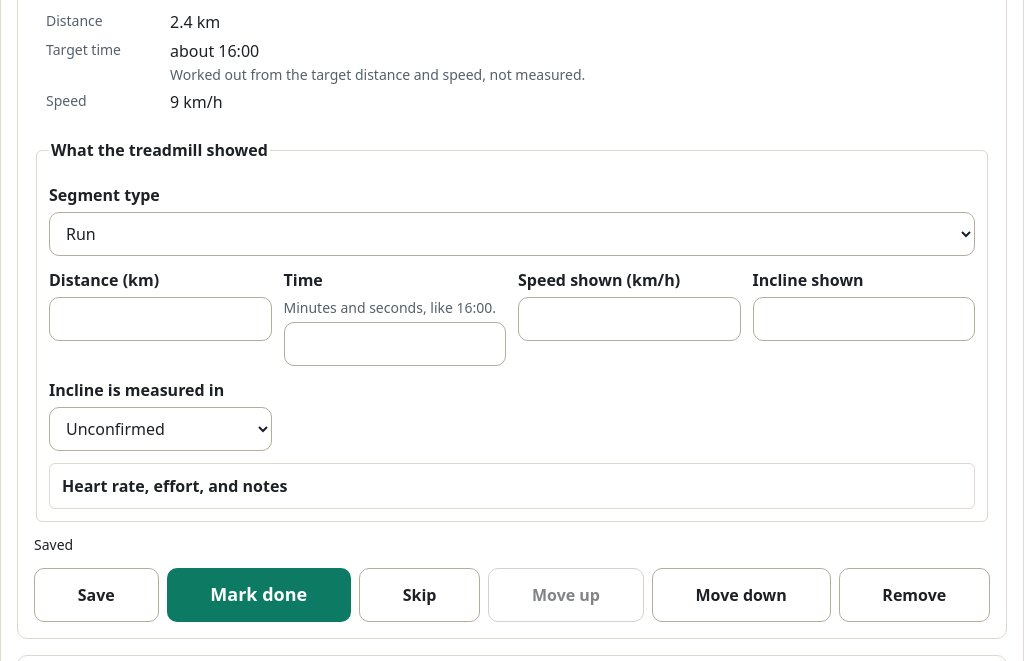
it: adding, removing, and reordering › refuses to remove a segment holding recorded numbers, and says so
(page scrolled)
Type "3.05" into the field labelled "Distance (km)" at (160, 319), box [49,297,272,341]
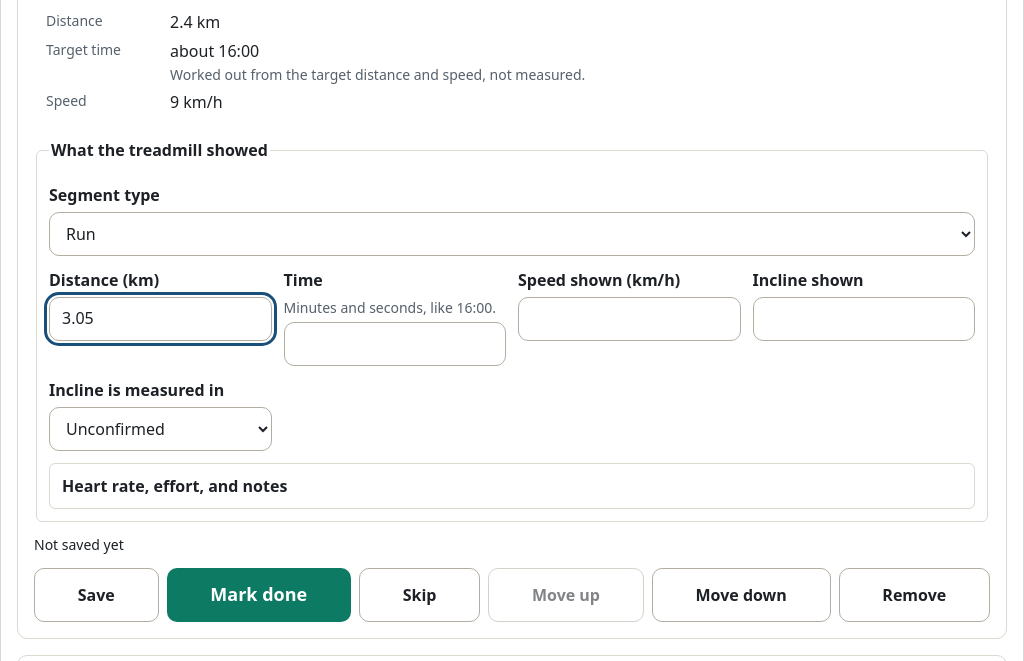
Click the button "Save" at (96, 595), box [34,568,159,622]
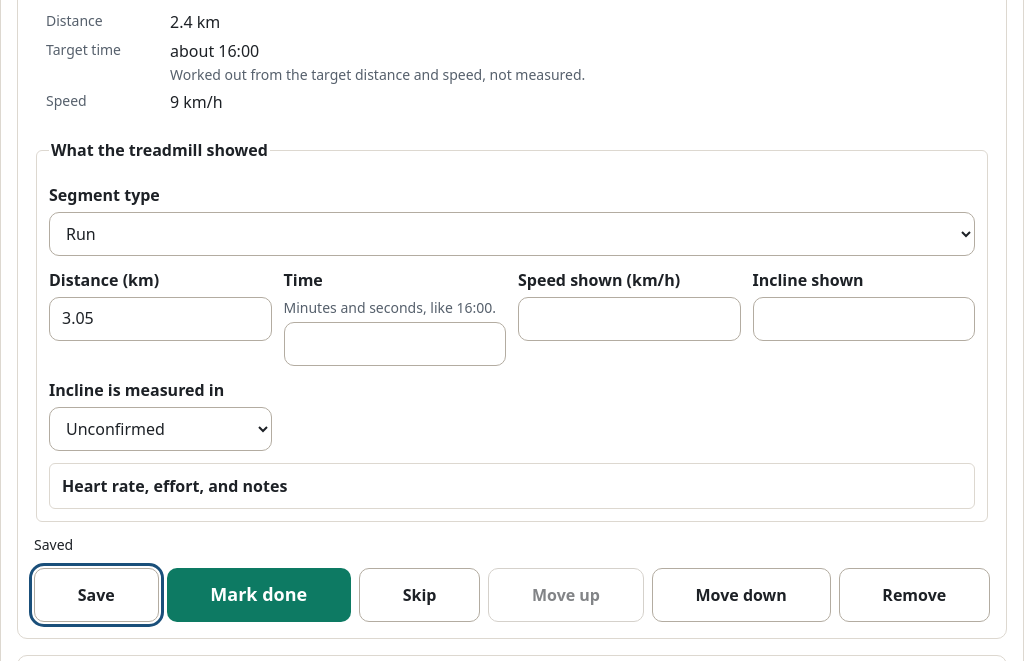
Expected: the text "Saved" is shown, [34,535,73,554]
Click the button "Remove" at (914, 595), box [839,568,990,622]
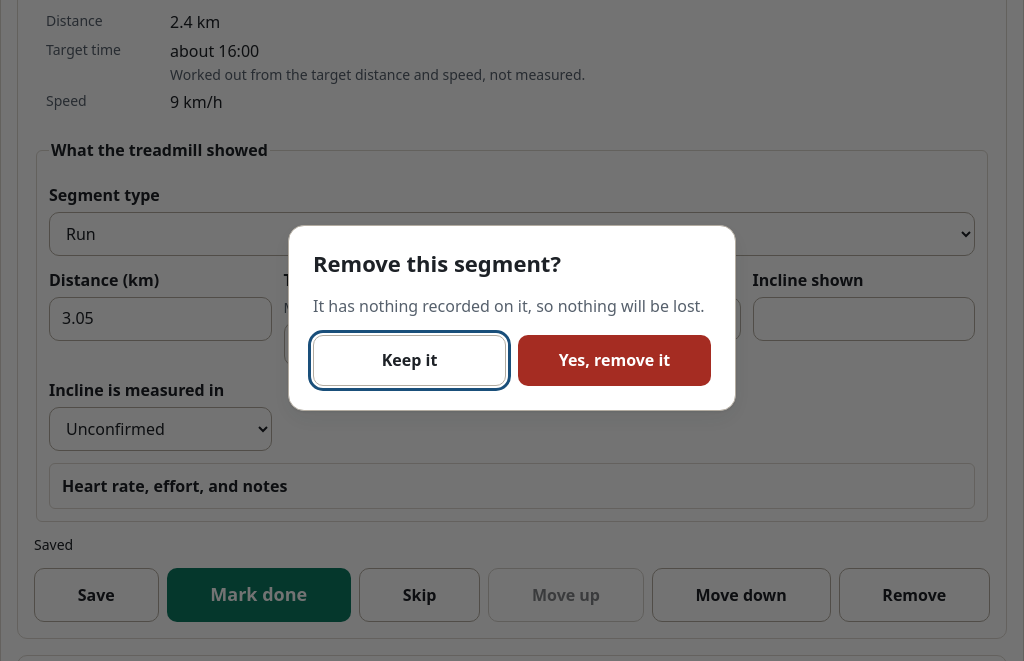
Click the button "Yes, remove it" at (614, 360), box [518,335,711,386]
(page scrolled)
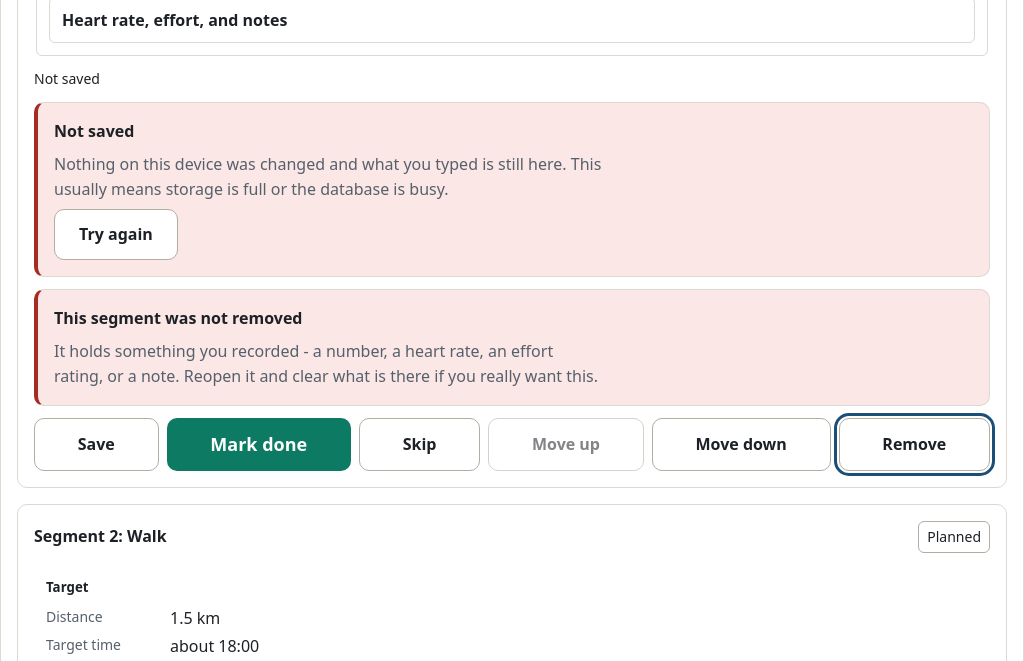
Expected: the text "This segment was not removed" is shown, [54,307,302,329]
